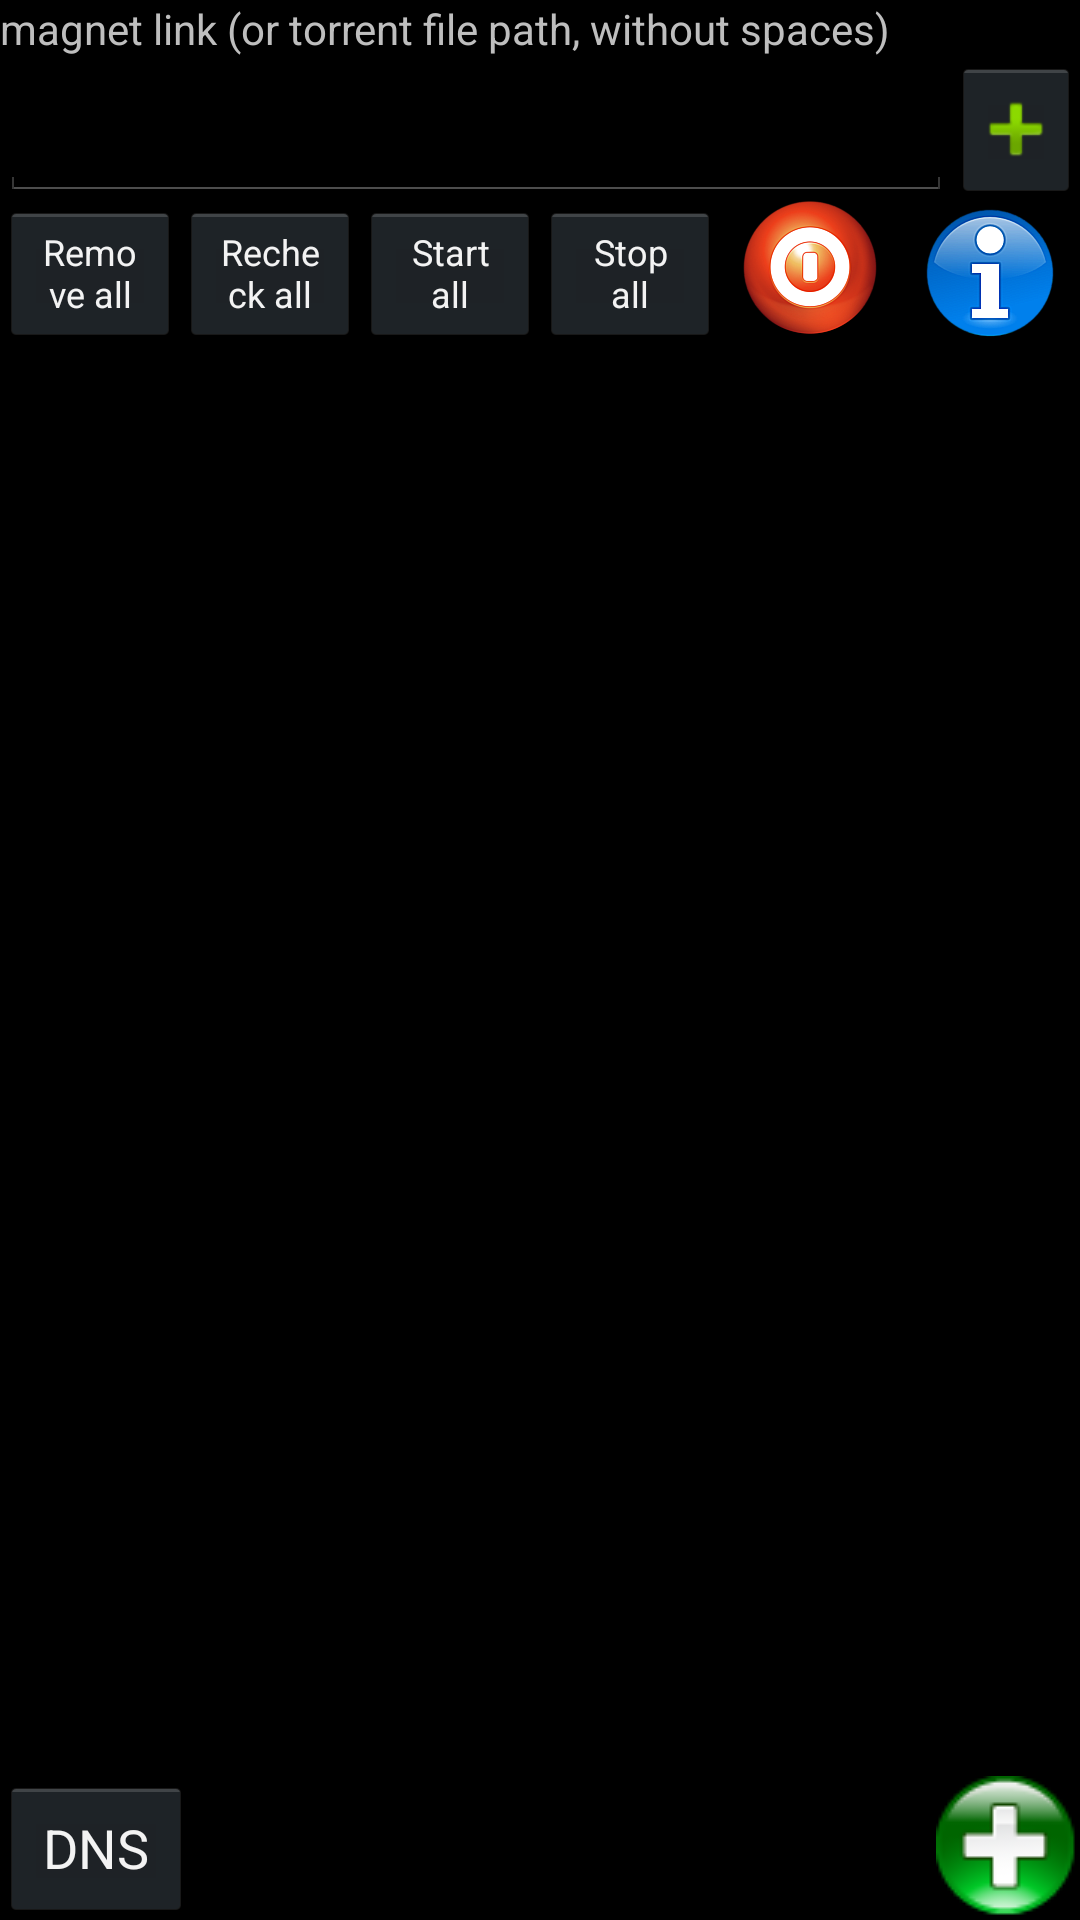

Icons on this 1080 x 1920 Android screen, each with the point to tap as [x,y]:
about: [990,273]
shutdown: [809,267]
